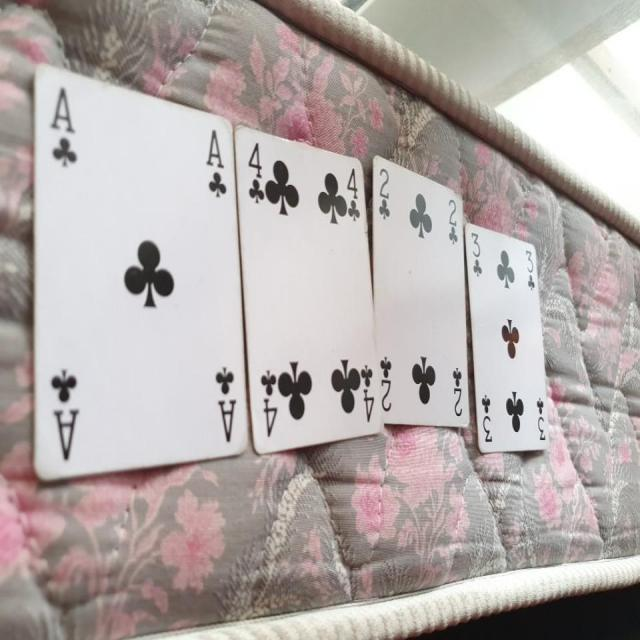2 of clubs: (369, 152, 472, 432)
3 of clubs: (463, 223, 551, 453)
4 of clubs: (234, 121, 386, 455)
ace of clubs: (30, 60, 250, 482)
